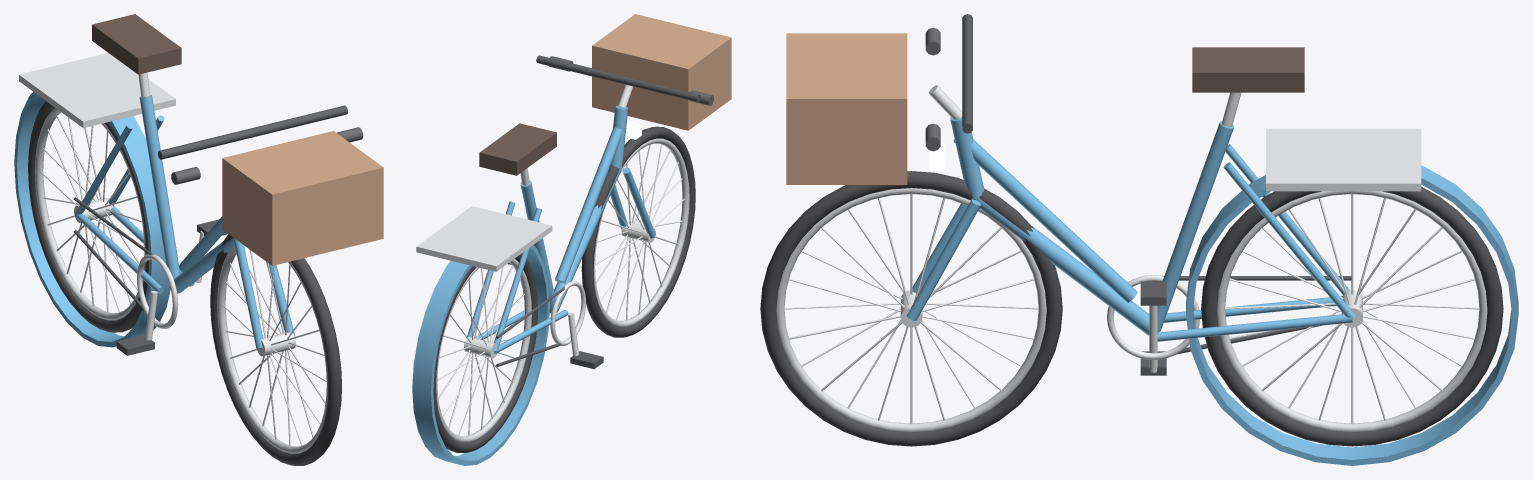
Rendered from bike-city.glb.
3 renders of one model, left to right at view 1: azimuth 30°, elevation 25°; view 2: azimuth 150°, elevation 25°; view 3: azimuth 270°, elevation 25°, orthographic. The views are drawn at different scales.
Visible parts, largest first — view 1: bike-city; view 2: bike-city; view 3: bike-city.
Part boxes in pixels (x1,y1,x2,y2): bike-city: (14, 14, 383, 465); bike-city: (412, 14, 731, 465); bike-city: (760, 14, 1518, 465).
Bounding box in the file's own units: 0.6 × 1.02 × 1.75.
